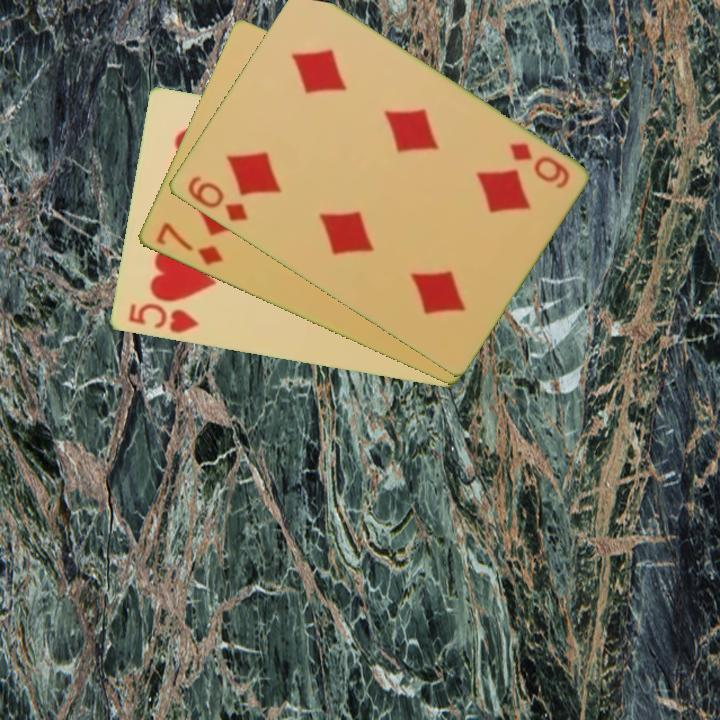5h: (124, 300, 201, 337)
6d: (505, 139, 573, 192), (183, 172, 250, 225)
7d: (152, 219, 226, 269)
